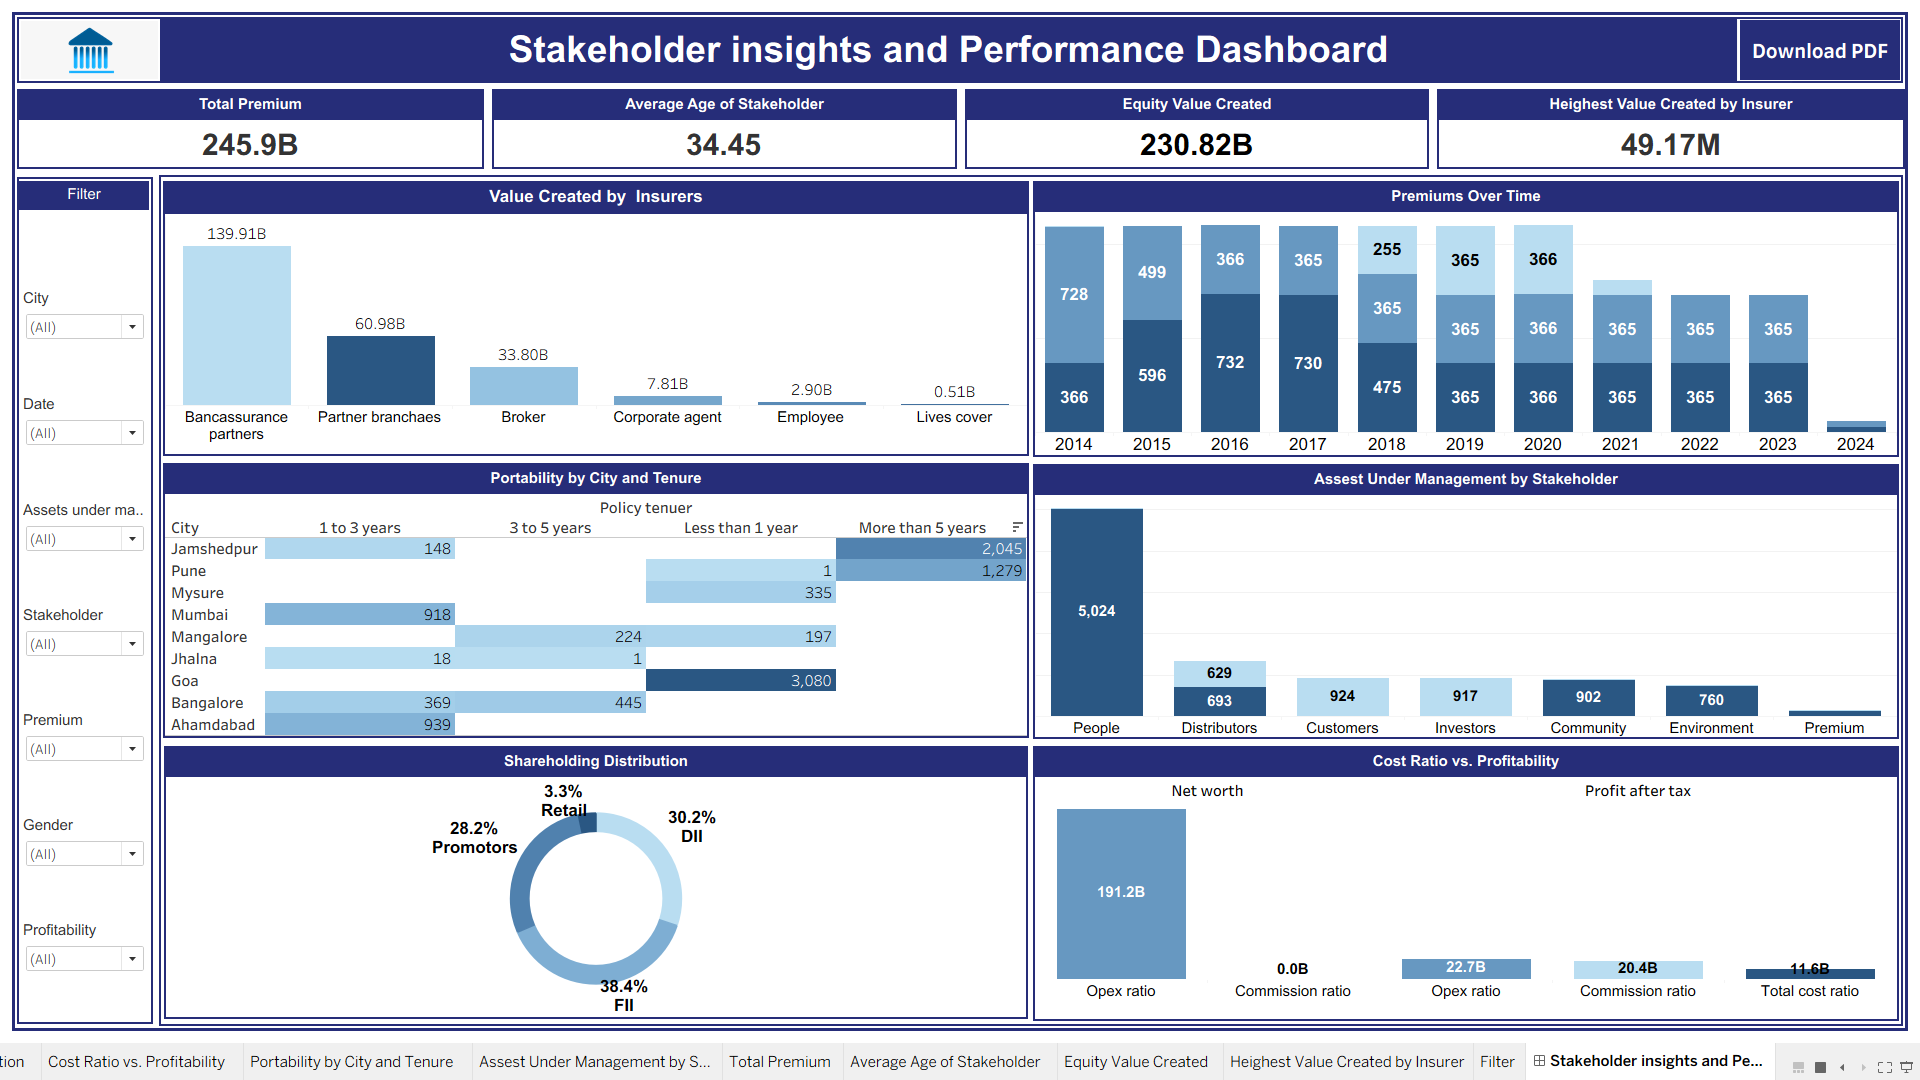

This screenshot's page, from the dashboard's own definition file:
{"tool":"tableau","page":{"name":"Stakeholder insights and Performance Dashboard","canvas":[1000,1000],"units":"permille","ordinal":0},"visuals":[{"type":"image","param":"D:/Blue-Bank-PNG-Image-Background.png","box":[11.5,22.3,85.1,72.9]},{"type":"text","box":[96.6,22.3,892,72.9]},{"type":"worksheet","title":"Total Premium","mark":"Automatic","box":[9.1,99.9,245.6,103.4]},{"type":"worksheet","title":"Average Age of Stakeholder","mark":"Automatic","box":[254.7,99.9,245.6,103.4]},{"type":"worksheet","title":"Equity Value Created","mark":"Automatic","box":[500.3,99.9,245.6,103.4]},{"type":"worksheet","title":"Heighest Value Created by Insurer","mark":"Automatic","box":[745.9,99.9,245,103.4]},{"type":"worksheet","title":"Filter","mark":"Automatic","box":[11.5,210.3,79.7,96.4]},{"type":"worksheet","title":"Value Created by  Insurers","mark":"Automatic","rows":["Value Created"],"cols":["Insurer"],"box":[97.2,210.3,446,251.5]},{"type":"worksheet","title":"Premiums Over Time","mark":"Bar","rows":["Premium 1"],"cols":["Date"],"box":[543.1,210.3,445.4,251.5]},{"type":"filter","title":"Filter","param":"[federated.0i3km7i0hz0k7y1cgkl9c1rdp684].[none:City:nk]","box":[11.5,306.7,79.7,96.4]},{"type":"filter","title":"Filter","param":"[federated.0i3km7i0hz0k7y1cgkl9c1rdp684].[my:Date:ok]","box":[11.5,403.1,79.7,96.4]},{"type":"worksheet","title":"Portability by City and Tenure","mark":"Square","rows":["City"],"cols":["Policy tenuer"],"box":[97.2,466.5,446,251.5]},{"type":"worksheet","title":"Assest Under Management by Stakeholder","mark":"Automatic","rows":["Assets under management"],"cols":["Stakeholder"],"box":[543.1,466.5,445.4,251.5]},{"type":"filter","title":"Filter","param":"[federated.0i3km7i0hz0k7y1cgkl9c1rdp684].[none:Assets under management:nk]","box":[11.5,499.4,79.7,95.2]},{"type":"filter","title":"Filter","param":"[federated.0i3km7i0hz0k7y1cgkl9c1rdp684].[none:Stakeholder:nk]","box":[11.5,594.6,79.7,95.2]},{"type":"filter","title":"Filter","param":"[federated.0i3km7i0hz0k7y1cgkl9c1rdp684].[none:Premium 1:nk]","box":[11.5,689.8,79.7,95.2]},{"type":"worksheet","title":"Shareholding Distribution","mark":"Pie","rows":["Calculation_1171544386998272","Calculation_1171544386998272"],"box":[97.2,722.7,446,251.5]},{"type":"worksheet","title":"Cost Ratio vs. Profitability","mark":"Automatic","rows":["Value Created"],"cols":["Profitability","Cost ratio"],"box":[543.1,722.7,445.4,251.5]},{"type":"filter","title":"Filter","param":"[federated.0i3km7i0hz0k7y1cgkl9c1rdp684].[none:Gender:nk]","box":[11.5,785,79.7,95.2]},{"type":"filter","title":"Filter","param":"[federated.0i3km7i0hz0k7y1cgkl9c1rdp684].[none:Profitability:nk]","box":[11.5,880.1,79.7,95.2]}]}

Visuals, with their boxes on the dashboard's canvas, which has no fixed pixel size, in thousandths of its width and height (x1, y1, x2, y2). These are canvas units, not pixel positions in the 1920x1080 screenshot, which may show the page scaled, cropped or inside an application window:
image: locate(12, 22, 97, 95)
text: locate(97, 22, 989, 95)
"Total Premium" worksheet: locate(9, 100, 255, 203)
"Average Age of Stakeholder" worksheet: locate(255, 100, 500, 203)
"Equity Value Created" worksheet: locate(500, 100, 746, 203)
"Heighest Value Created by Insurer" worksheet: locate(746, 100, 991, 203)
"Filter" worksheet: locate(12, 210, 91, 307)
"Value Created by  Insurers" worksheet: locate(97, 210, 543, 462)
"Premiums Over Time" worksheet (Bar marks): locate(543, 210, 988, 462)
"Filter" filter: locate(12, 307, 91, 403)
"Filter" filter: locate(12, 403, 91, 500)
"Portability by City and Tenure" worksheet (Square marks): locate(97, 466, 543, 718)
"Assest Under Management by Stakeholder" worksheet: locate(543, 466, 988, 718)
"Filter" filter: locate(12, 499, 91, 595)
"Filter" filter: locate(12, 595, 91, 690)
"Filter" filter: locate(12, 690, 91, 785)
"Shareholding Distribution" worksheet (Pie marks): locate(97, 723, 543, 974)
"Cost Ratio vs. Profitability" worksheet: locate(543, 723, 988, 974)
"Filter" filter: locate(12, 785, 91, 880)
"Filter" filter: locate(12, 880, 91, 975)
